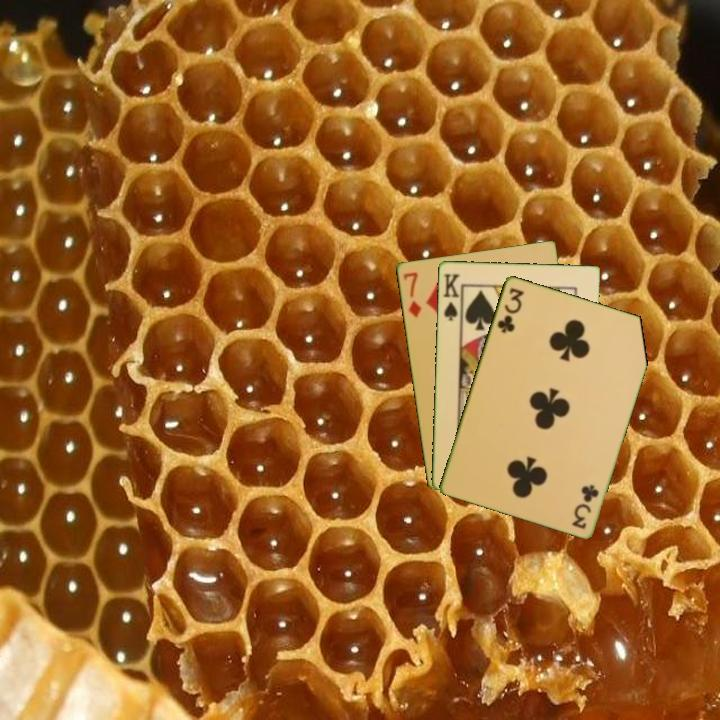3c: (493, 284, 526, 336), (569, 481, 602, 532)
7d: (400, 268, 424, 320)
Ks: (440, 270, 464, 323)
